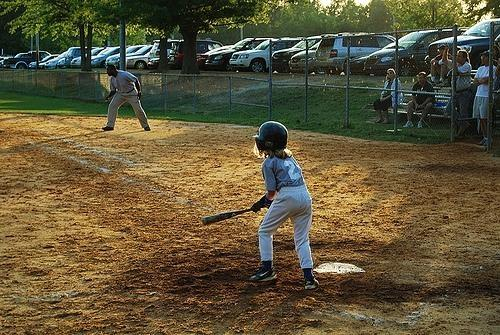car: (364, 29, 467, 76), (314, 32, 396, 74), (229, 38, 300, 74), (288, 40, 320, 74), (106, 45, 148, 69), (56, 47, 100, 68), (3, 51, 52, 69), (69, 47, 106, 67), (92, 47, 120, 68), (126, 49, 151, 70), (39, 51, 67, 69), (29, 54, 61, 68)
